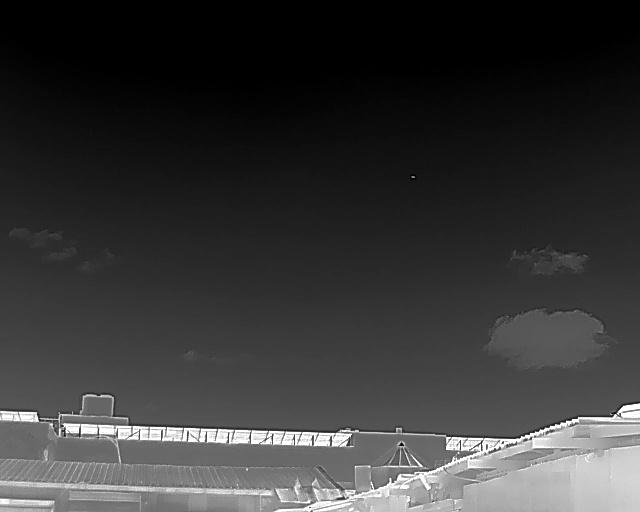fpv-drone: (410, 174, 417, 180)
